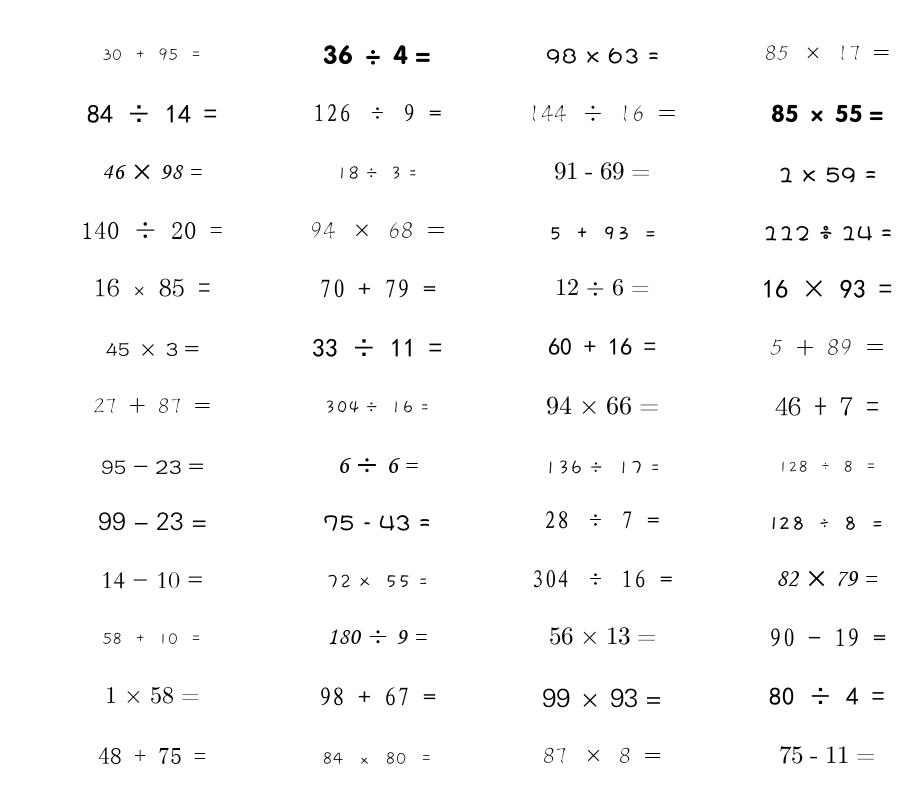MQ: (528, 104, 676, 122), (81, 221, 223, 239), (531, 570, 673, 588), (87, 104, 217, 123), (762, 279, 892, 298), (312, 338, 442, 357), (310, 221, 445, 239), (542, 688, 662, 708), (313, 104, 442, 122), (94, 278, 211, 297), (319, 279, 436, 298), (769, 628, 886, 647), (319, 687, 436, 706), (769, 687, 885, 706), (323, 45, 431, 65), (546, 396, 659, 415), (771, 104, 883, 123), (544, 511, 660, 529), (98, 512, 207, 531), (763, 225, 892, 241), (543, 747, 662, 764), (765, 45, 890, 61), (775, 397, 879, 416), (548, 338, 656, 356), (770, 339, 884, 356), (549, 627, 656, 645), (546, 47, 659, 64), (93, 398, 211, 414), (98, 747, 206, 764), (101, 572, 204, 589), (544, 460, 660, 475), (776, 570, 878, 587), (554, 162, 650, 180), (323, 515, 431, 531), (779, 746, 875, 764), (555, 278, 650, 296), (105, 686, 200, 704), (102, 164, 202, 180), (327, 629, 427, 645), (770, 516, 884, 530), (778, 167, 877, 183), (326, 574, 428, 589), (548, 226, 657, 240), (324, 400, 430, 414), (322, 752, 433, 765), (101, 460, 204, 474), (106, 342, 199, 357), (102, 48, 202, 61), (102, 632, 202, 645), (778, 460, 877, 473), (337, 458, 418, 473), (336, 166, 418, 180)
